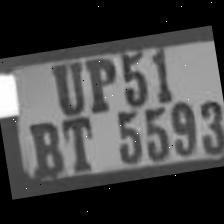1: (140, 37, 178, 99)
3: (191, 91, 224, 156)
5: (105, 102, 146, 164), (110, 43, 150, 106), (134, 100, 172, 162)
9: (162, 93, 200, 158)
B: (22, 113, 68, 178)
P: (77, 50, 121, 113)
T: (55, 111, 100, 172)
U: (42, 54, 90, 114)
